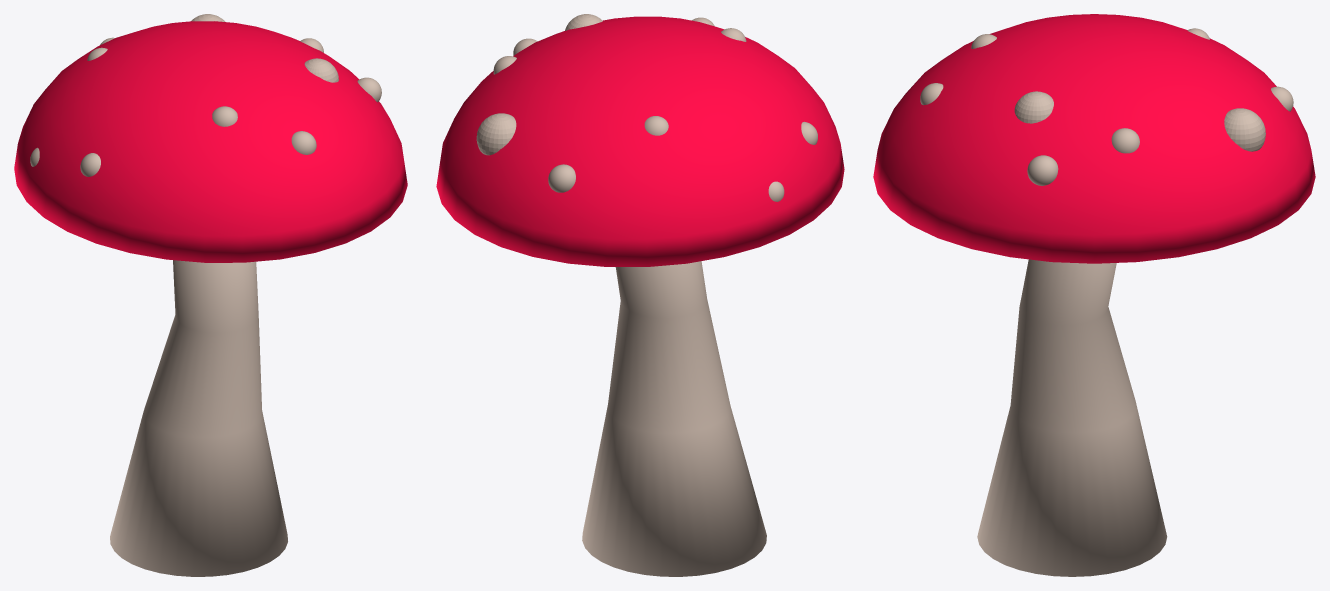
File: mush3.fbx
3 views of the same model, side by side, from view 1: azimuth 30°, elevation 25°; view 2: azimuth 150°, elevation 25°; view 3: azimuth 270°, elevation 25° (orthographic). The views are drawn at different scales.
Parts seen in each view (by area): view 1: Sphere; view 2: Sphere; view 3: Sphere.
Boxes of the visible parts, x1=… form: Sphere: x1=14, y1=14, x2=407, y2=576; Sphere: x1=436, y1=14, x2=844, y2=576; Sphere: x1=873, y1=14, x2=1315, y2=576.
Bounding box in the file's own units: 997 × 1365 × 1074.
